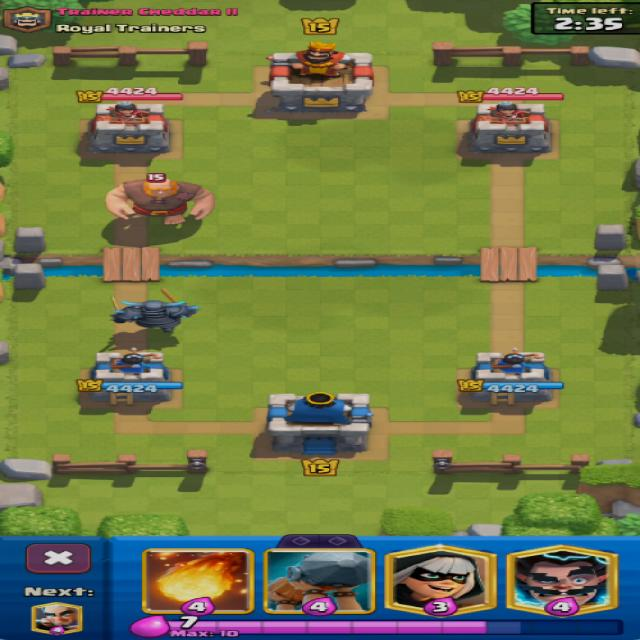Enemy-Giant: (106, 176, 214, 224)
Enemy-KingTower: (270, 51, 372, 114)
Enemy-PrincessTower: (88, 100, 169, 152), (470, 101, 549, 152)
